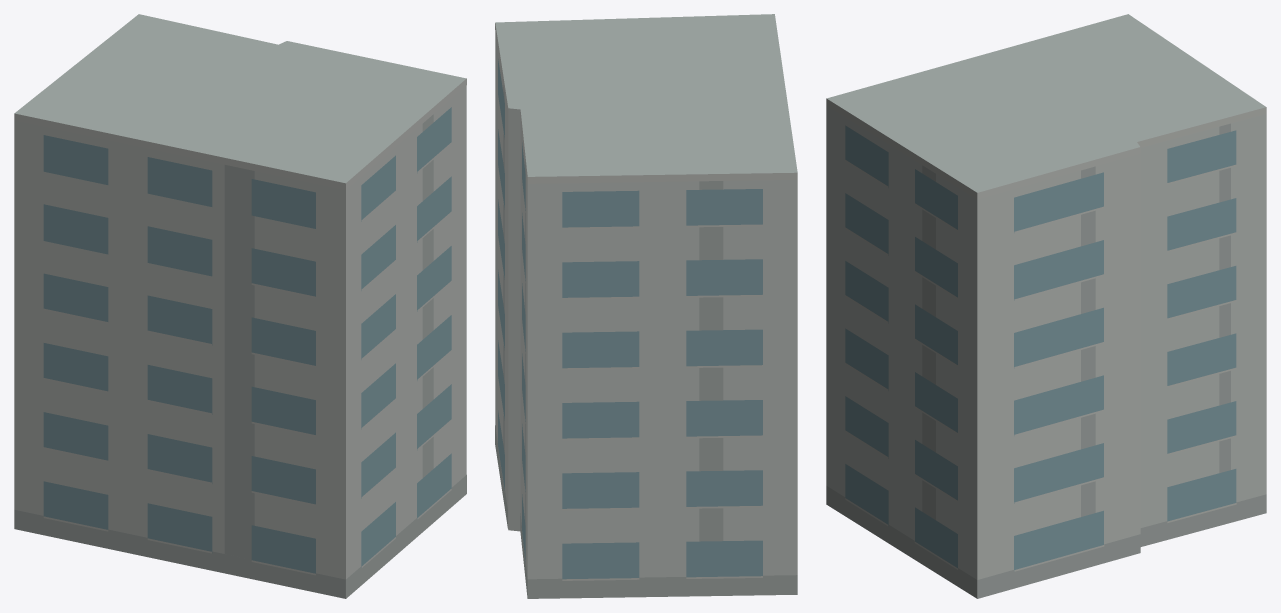
Rendered from survey-upis-32889288.glb.
3 renders of one model, left to right at view 1: azimuth 30°, elevation 25°; view 2: azimuth 150°, elevation 25°; view 3: azimuth 270°, elevation 25°, orthographic. The views are drawn at different scales.
Parts seen in each view (by area): view 1: survey-upis-32889288.tmp; view 2: survey-upis-32889288.tmp; view 3: survey-upis-32889288.tmp.
Boxes of the visible parts, bbox=[...] form: survey-upis-32889288.tmp: bbox=[14, 14, 466, 598]; survey-upis-32889288.tmp: bbox=[495, 14, 797, 598]; survey-upis-32889288.tmp: bbox=[826, 14, 1266, 598].
Bounding box in the file's own units: 13.8 × 14.6 × 14.35.
